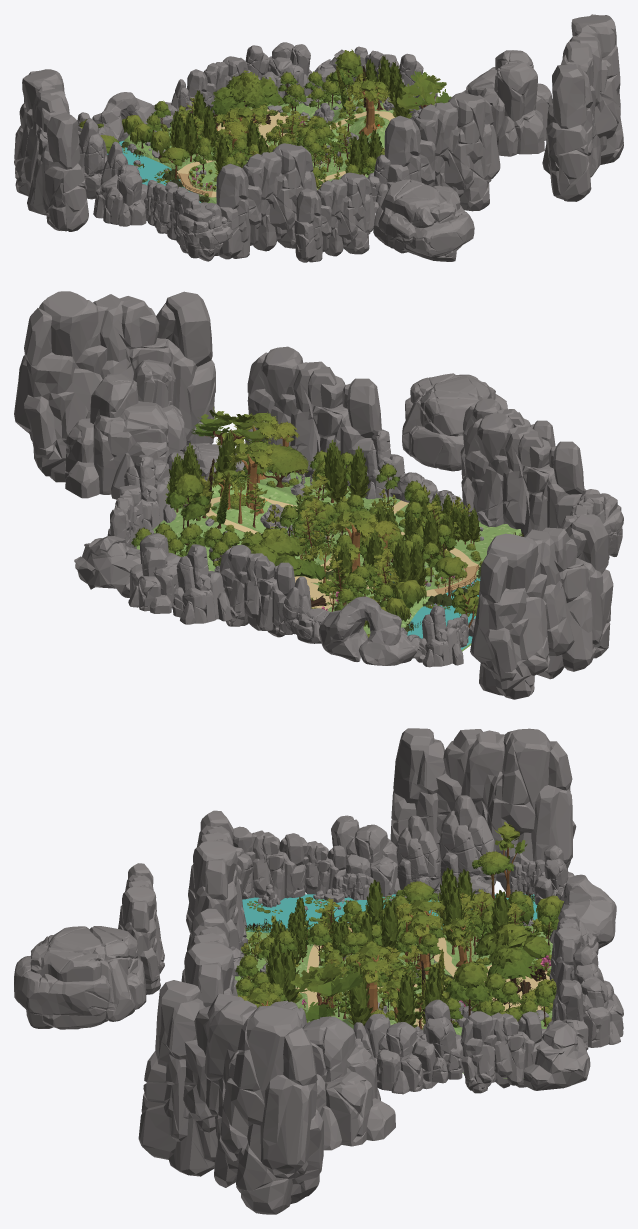
Rendered from forest-final.glb.
3 views of the same model, one above another, from view 1: azimuth 30°, elevation 25°; view 2: azimuth 150°, elevation 25°; view 3: azimuth 270°, elevation 25° (orthographic). The views are drawn at different scales.
Parts seen in each view (by area): view 1: rock-generic-large-d.010, rock-generic-large-d.003, rock-generic-large-d.009, rock-generic-large-d.005, rock-generic-large-b.002, rock-generic-large-d.008, rock-generic-large-g.004, Terrain_120x90, rock-generic-large-g.003, rock-generic-large-c, tree-oak-english-generic-mature-a, rock-generic-large-d.004 (+30 smaller); view 2: rock-generic-large-d.010, rock-generic-large-d.009, rock-generic-large-d.005, rock-generic-large-g.004, rock-generic-large-d.003, rock-generic-large-b.002, Terrain_120x90, rock-generic-large-d.004, rock-sea-huge-tunnel-a.001, rock-generic-large-f.003, rock-generic-large-g.002, rock-sea-medium-bumpy-seaweed-b.002 (+24 smaller); view 3: rock-generic-large-d.010, rock-generic-large-d.009, rock-generic-large-b.002, rock-generic-large-g.004, rock-generic-large-d, rock-generic-large-d.005, rock-generic-large-d.006, rock-generic-large-d.003, rock-generic-large-g.002, rock-generic-large-d.008, rock-generic-large-g, rock-generic-large-e.003 (+24 smaller).
Boxes of the visible parts, bbox=[...] form: rock-generic-large-d.010: bbox=[542, 14, 623, 201]; rock-generic-large-d.003: bbox=[384, 92, 500, 211]; rock-generic-large-d.009: bbox=[14, 69, 88, 231]; rock-generic-large-d.005: bbox=[216, 143, 316, 259]; rock-generic-large-b.002: bbox=[373, 179, 474, 261]; rock-generic-large-d.008: bbox=[294, 172, 375, 262]; rock-generic-large-g.004: bbox=[461, 50, 552, 156]; Terrain_120x90: bbox=[124, 94, 412, 203]; rock-generic-large-g.003: bbox=[93, 164, 147, 226]; rock-generic-large-c: bbox=[177, 202, 232, 261]; tree-oak-english-generic-mature-a: bbox=[210, 70, 284, 127]; rock-generic-large-d.004: bbox=[187, 56, 248, 115]; rock-generic-large-d.010: bbox=[14, 291, 215, 482]; rock-generic-large-d.009: bbox=[470, 514, 613, 699]; rock-generic-large-d.005: bbox=[461, 413, 585, 536]; rock-generic-large-g.004: bbox=[65, 359, 186, 499]; rock-generic-large-d.003: bbox=[245, 346, 381, 485]; rock-generic-large-b.002: bbox=[402, 373, 507, 471]; Terrain_120x90: bbox=[136, 471, 521, 651]; rock-generic-large-d.004: bbox=[220, 544, 295, 637]; rock-sea-huge-tunnel-a.001: bbox=[319, 596, 417, 665]; rock-generic-large-f.003: bbox=[172, 544, 232, 624]; rock-generic-large-g.002: bbox=[128, 533, 180, 613]; rock-sea-medium-bumpy-seaweed-b.002: bbox=[74, 536, 140, 597]; rock-generic-large-d.010: bbox=[138, 980, 323, 1214]; rock-generic-large-d.009: bbox=[390, 728, 576, 894]; rock-generic-large-b.002: bbox=[14, 926, 146, 1029]; rock-generic-large-g.004: bbox=[270, 1000, 395, 1150]; rock-generic-large-d: bbox=[460, 1011, 542, 1093]; rock-generic-large-d.005: bbox=[186, 810, 247, 950]; rock-generic-large-d.006: bbox=[233, 826, 305, 900]; rock-generic-large-d.003: bbox=[181, 908, 237, 1007]; rock-generic-large-g.002: bbox=[551, 976, 623, 1047]; rock-generic-large-d.008: bbox=[118, 863, 164, 994]; rock-generic-large-g: bbox=[364, 1013, 437, 1094]; rock-generic-large-e.003: bbox=[439, 795, 496, 894].
Bounding box in the file's own units: 220 × 57.19 × 164.
Materials: 248 (236 with a texture image).
